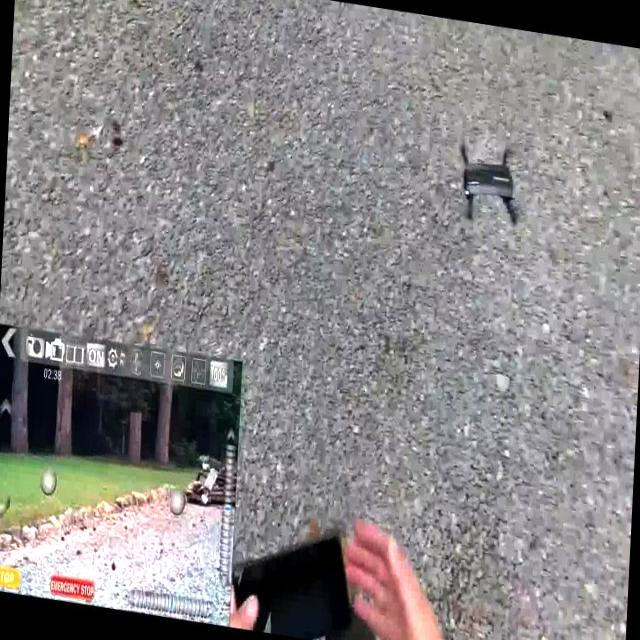drone: (445, 124, 532, 236)
